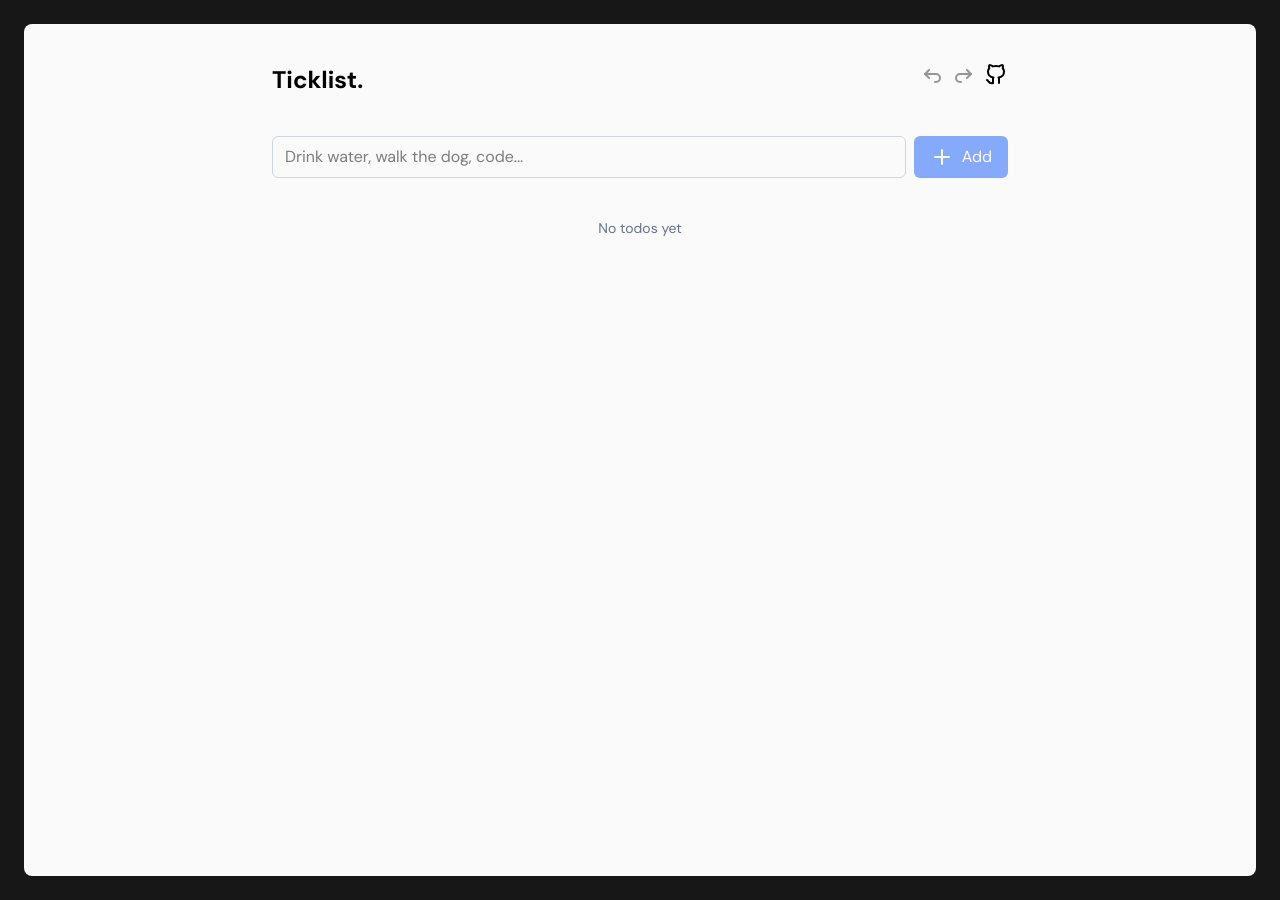
Test case: App › adds a new todo
Type "New Task" into the field with placeholder "Drink water, walk the dog, code...". click: (589, 157)
box: [272,136,906,178]
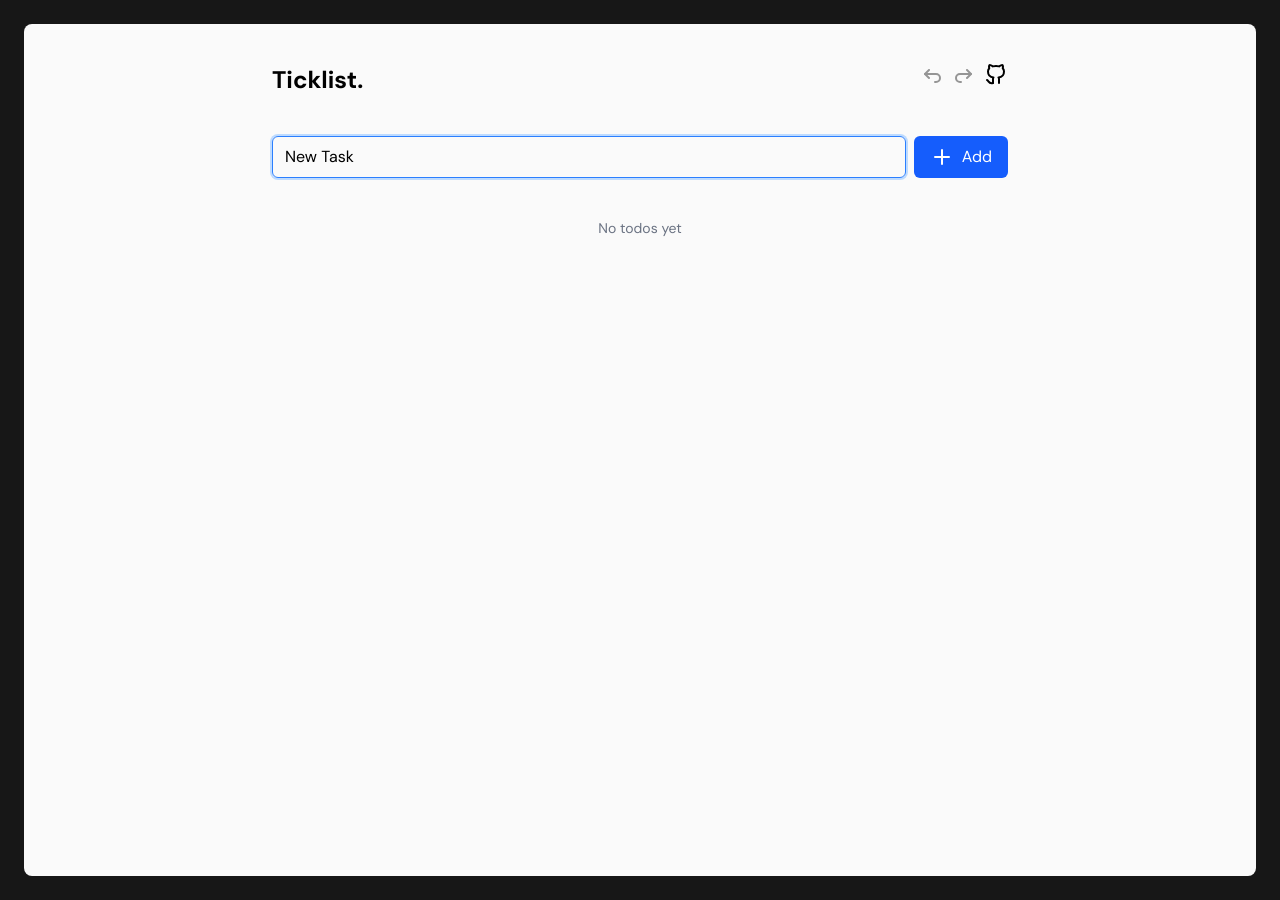
Click the button "Add". click: click(961, 157)
box: [914,136,1008,178]
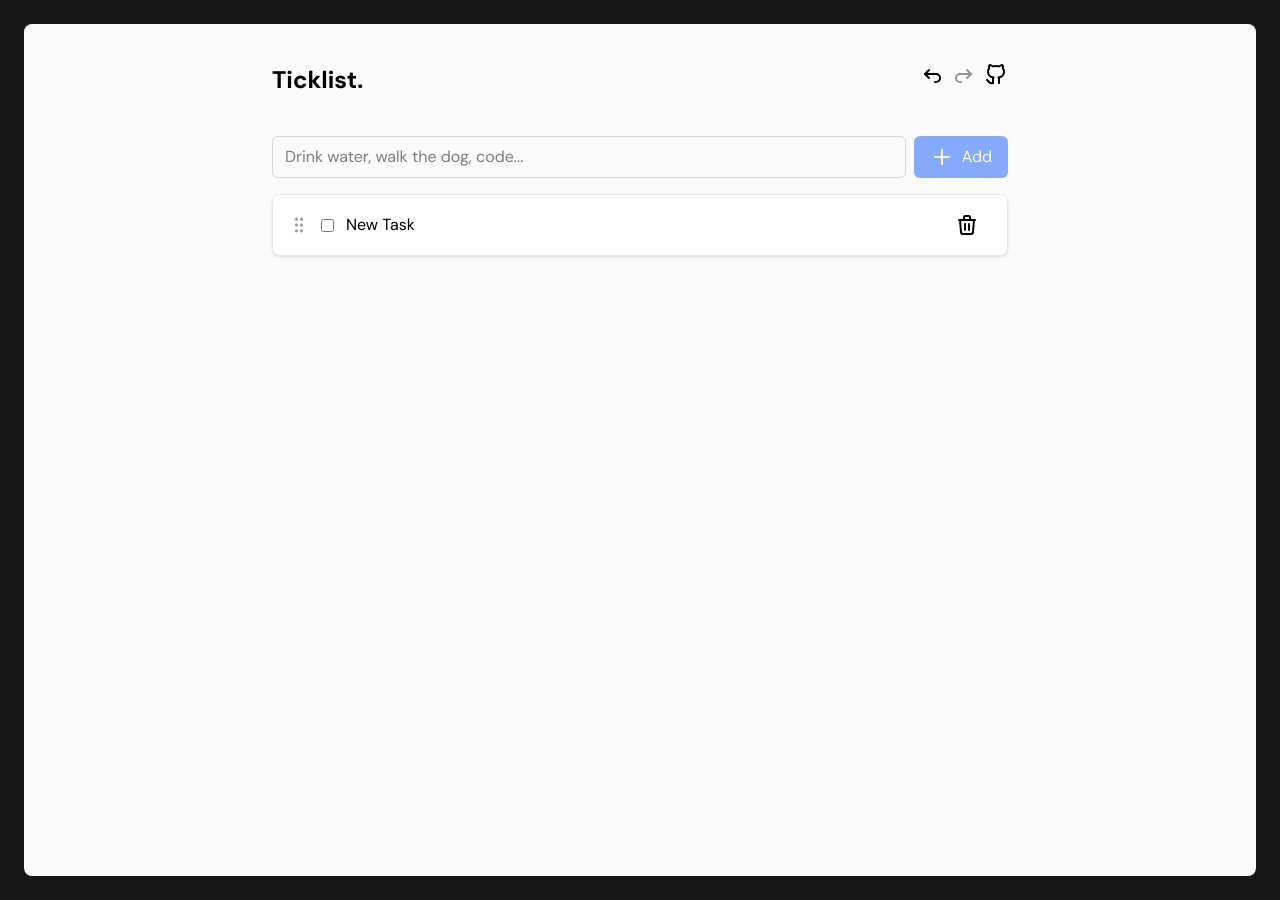
Now the text "New Task" is shown, box [346,213,415,237]
